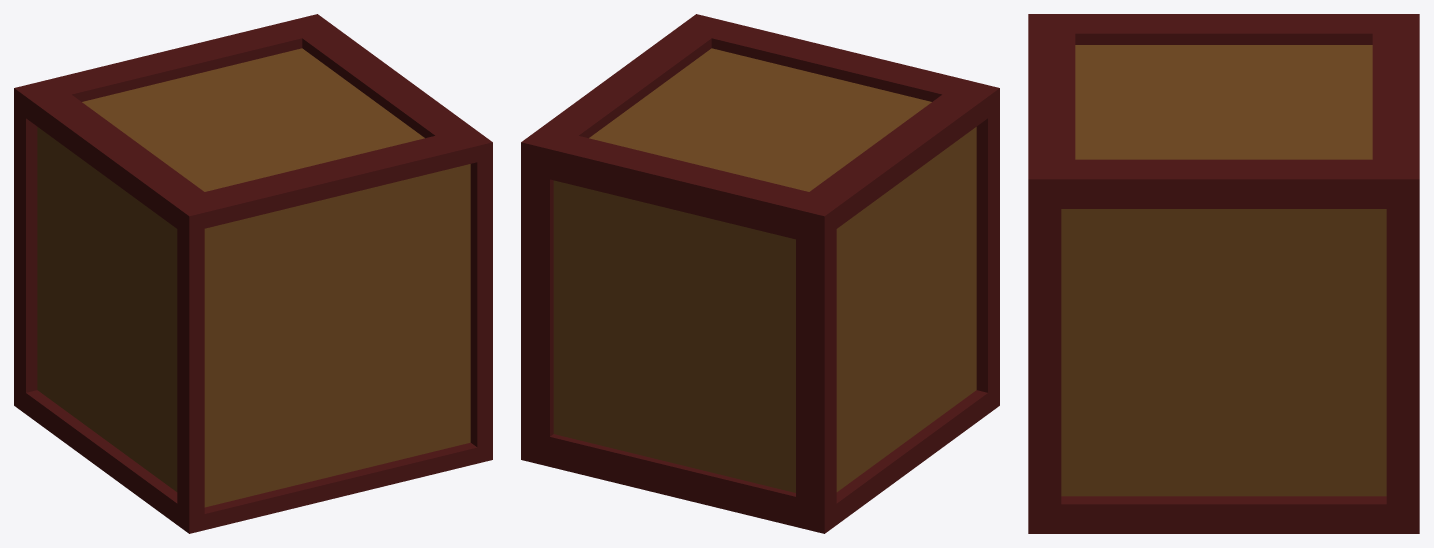
Rendered from simplebox.glb.
3 views of the same model, side by side, from view 1: azimuth 30°, elevation 25°; view 2: azimuth 150°, elevation 25°; view 3: azimuth 270°, elevation 25° (orthographic). The views are drawn at different scales.
Visible parts, largest first — view 1: Cube.041; view 2: Cube.041; view 3: Cube.041.
Boxes of the visible parts, x1,y1,x2,y2 form: Cube.041: [14, 14, 492, 533]; Cube.041: [521, 14, 999, 533]; Cube.041: [1028, 14, 1419, 533].
Size of the model in its own units: 0.917 by 0.917 by 0.917.
